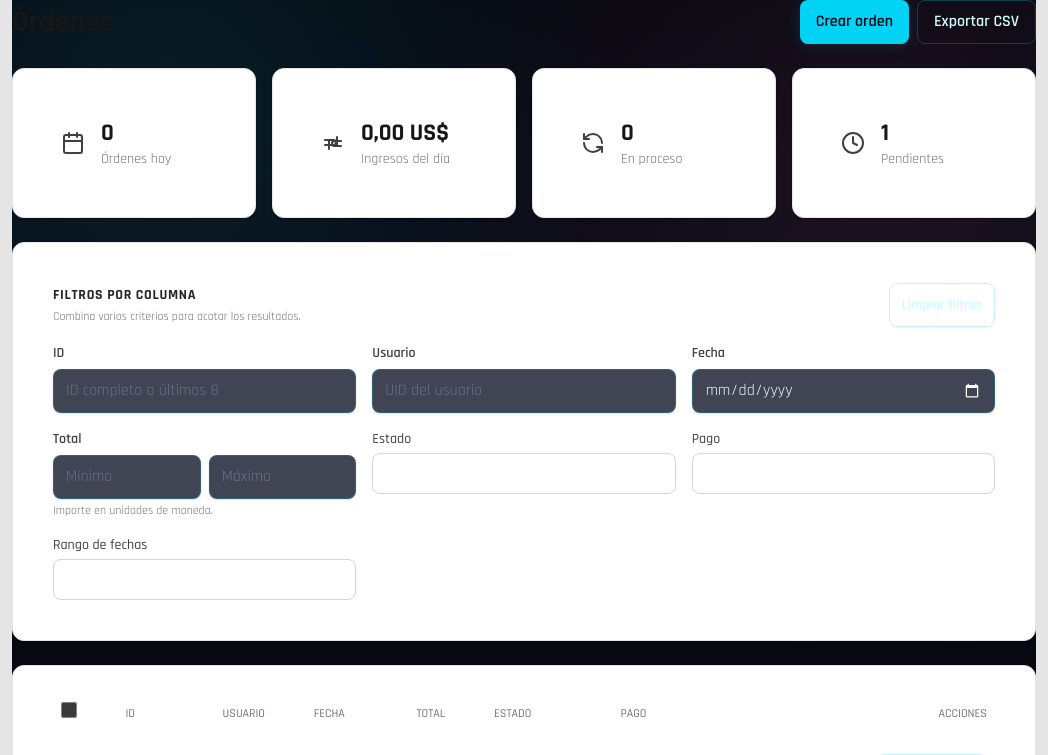
Test: AdminOrdersPage › deletes selected orders only after the API confirms success
Click the checkbox in the row of "Acciones". click: (69, 710)
box: left=61, top=702, right=77, bottom=718
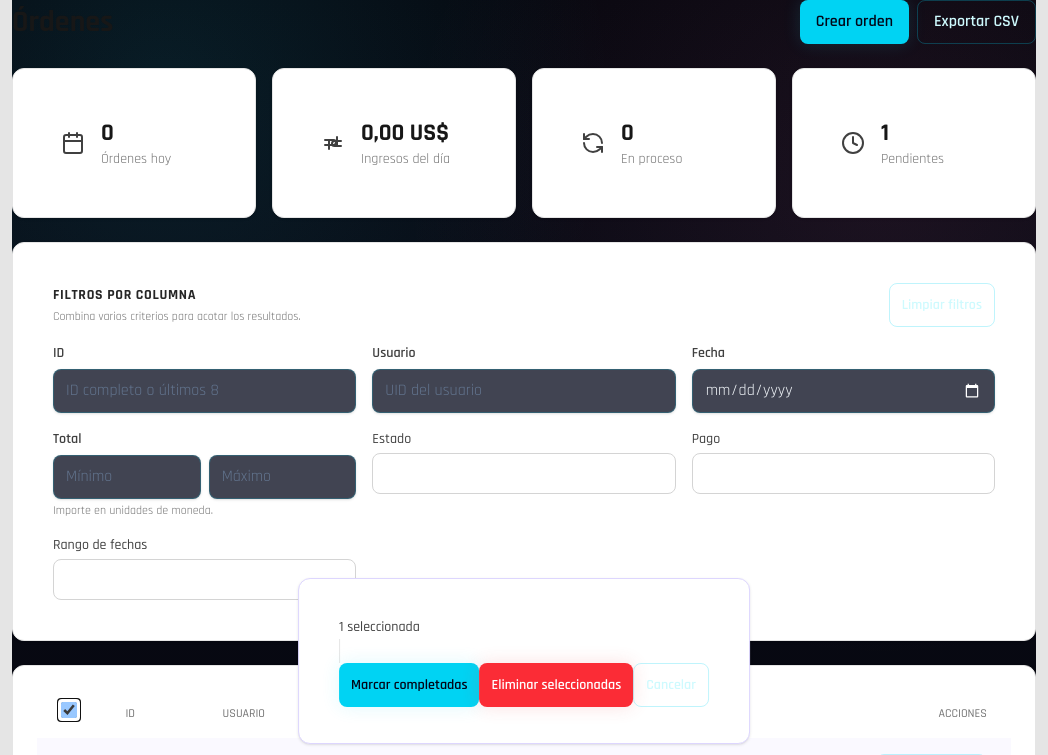
Click the button "Eliminar seleccionadas". click: (556, 685)
box: left=480, top=663, right=633, bottom=707
(page scrolled)
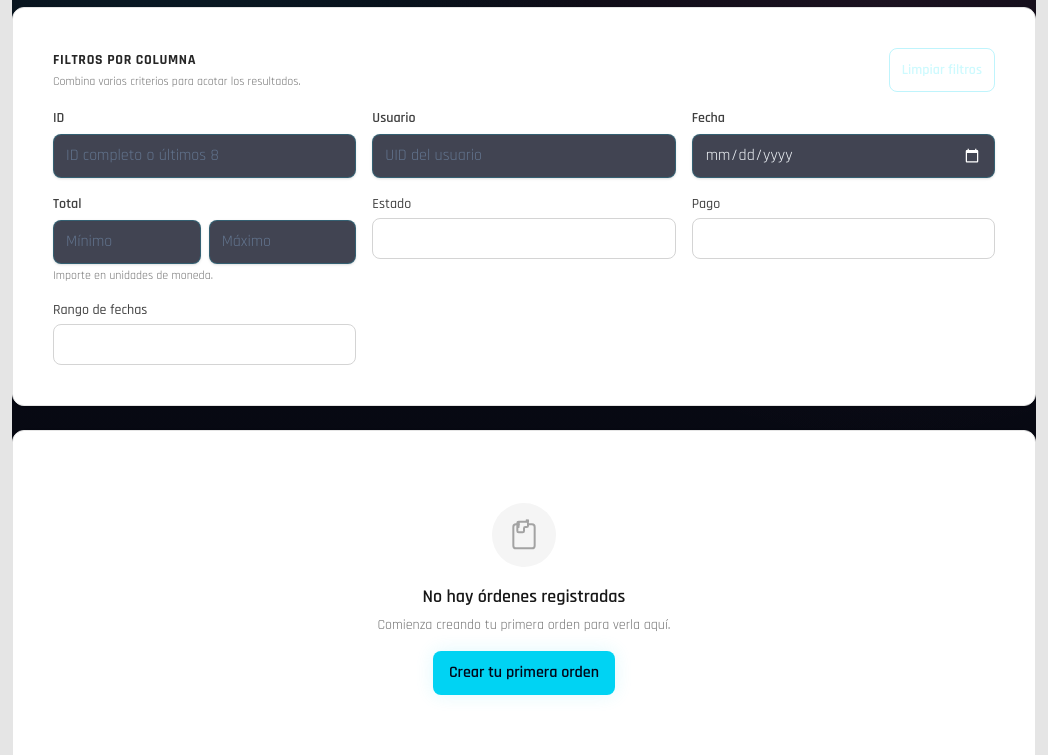
Check: the heading "No hay órdenes registradas" is shown, box left=423, top=585, right=625, bottom=608
